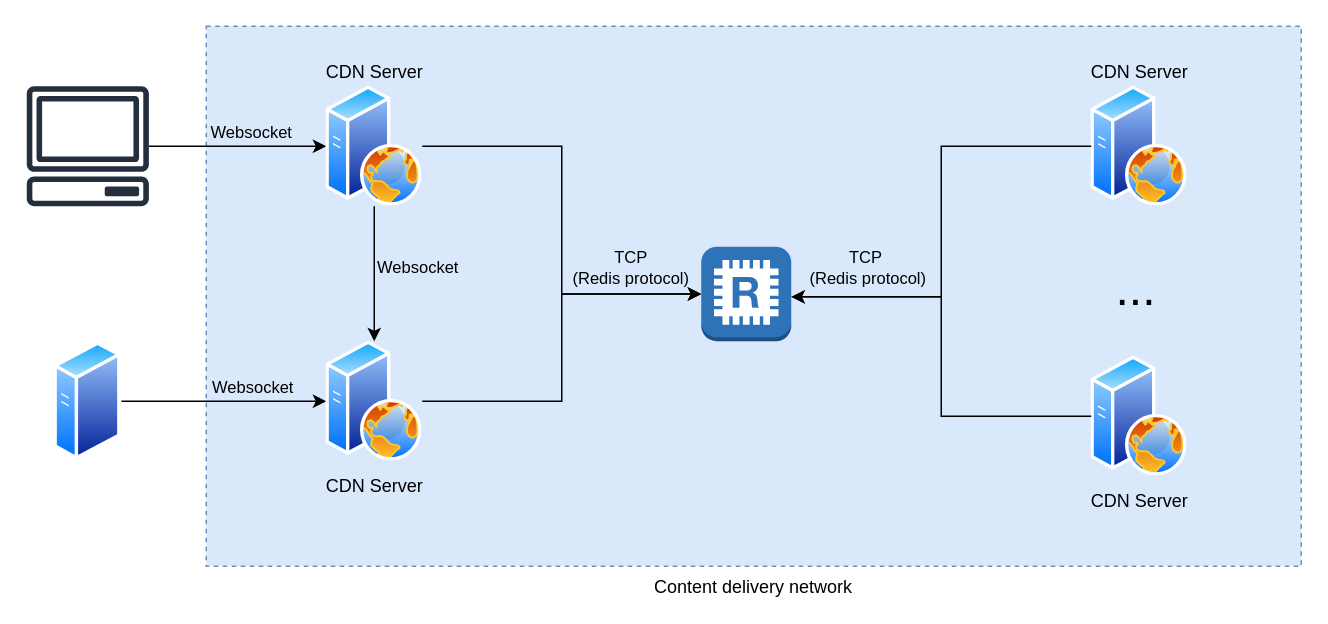
This 1328x624 diagram has some shape labels left out. Each missing label, with the box of its shape:
Client (Spectator): (26, 86, 149, 206)
HLS Encoder (Publisher): (53, 340, 121, 460)
Redis (Publish registry): (700, 245, 791, 341)
